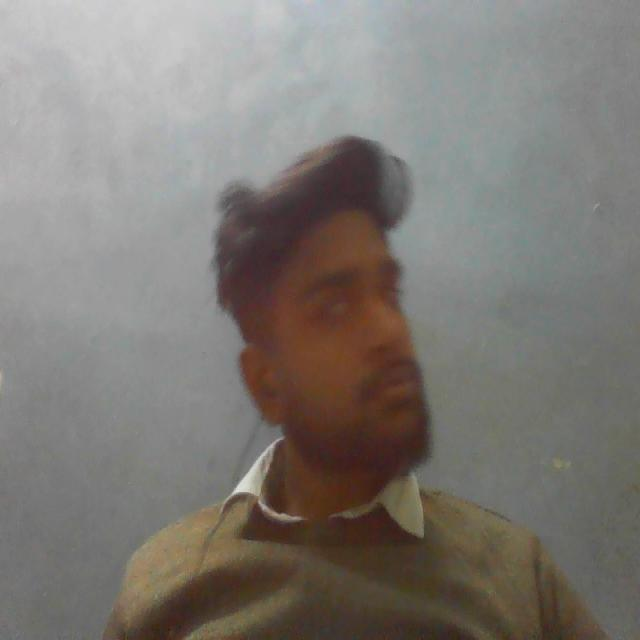real: (247, 125, 428, 467)
